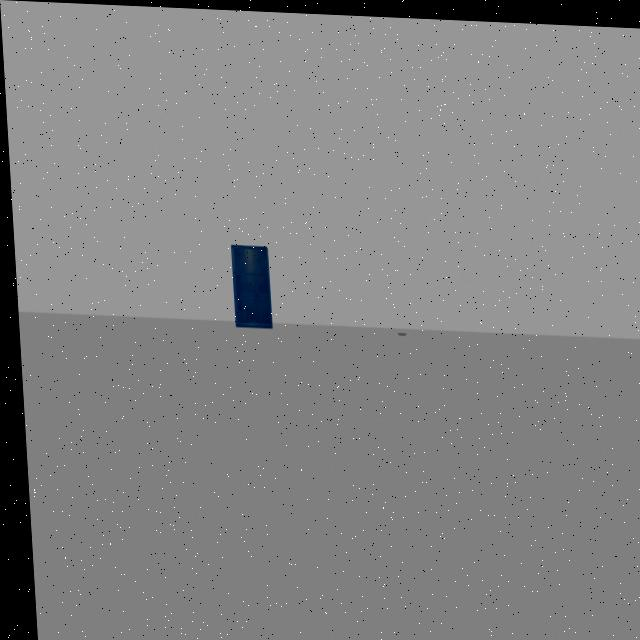bowl: (390, 321, 410, 344)
shelf: (219, 228, 284, 337)
